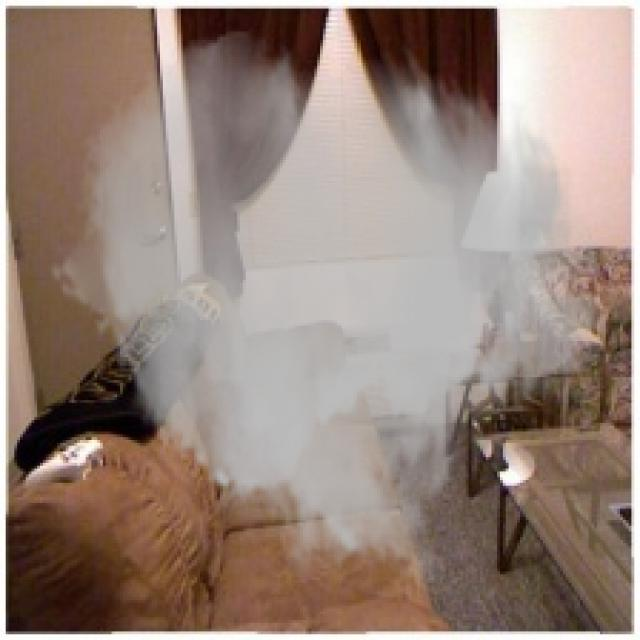smoke: (48, 26, 603, 594)
